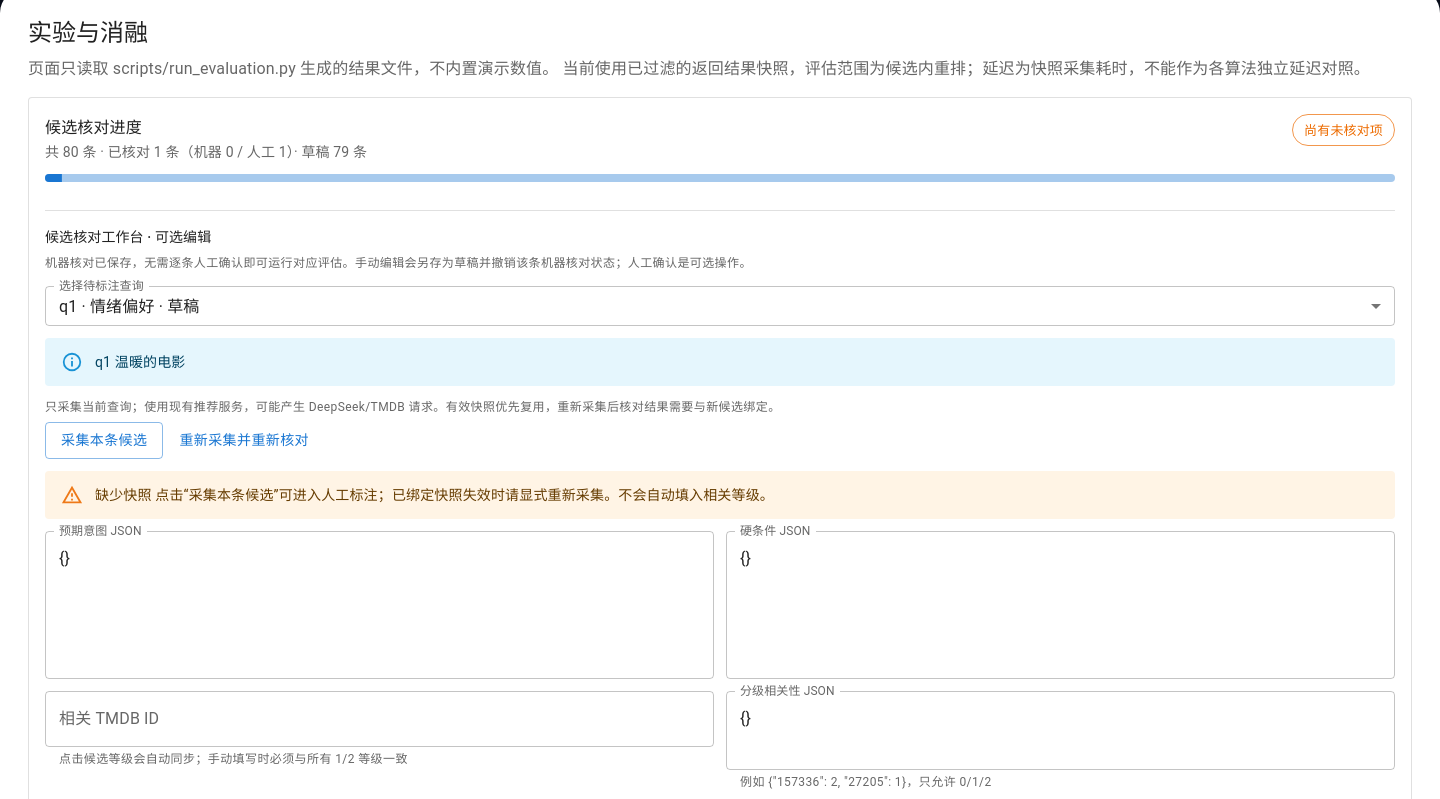
Test case: capture resolves to candidates, disables repeated clicks and never saves human labels
Click the button "采集本条候选".
click(104, 440)  # box [45,422,163,459]
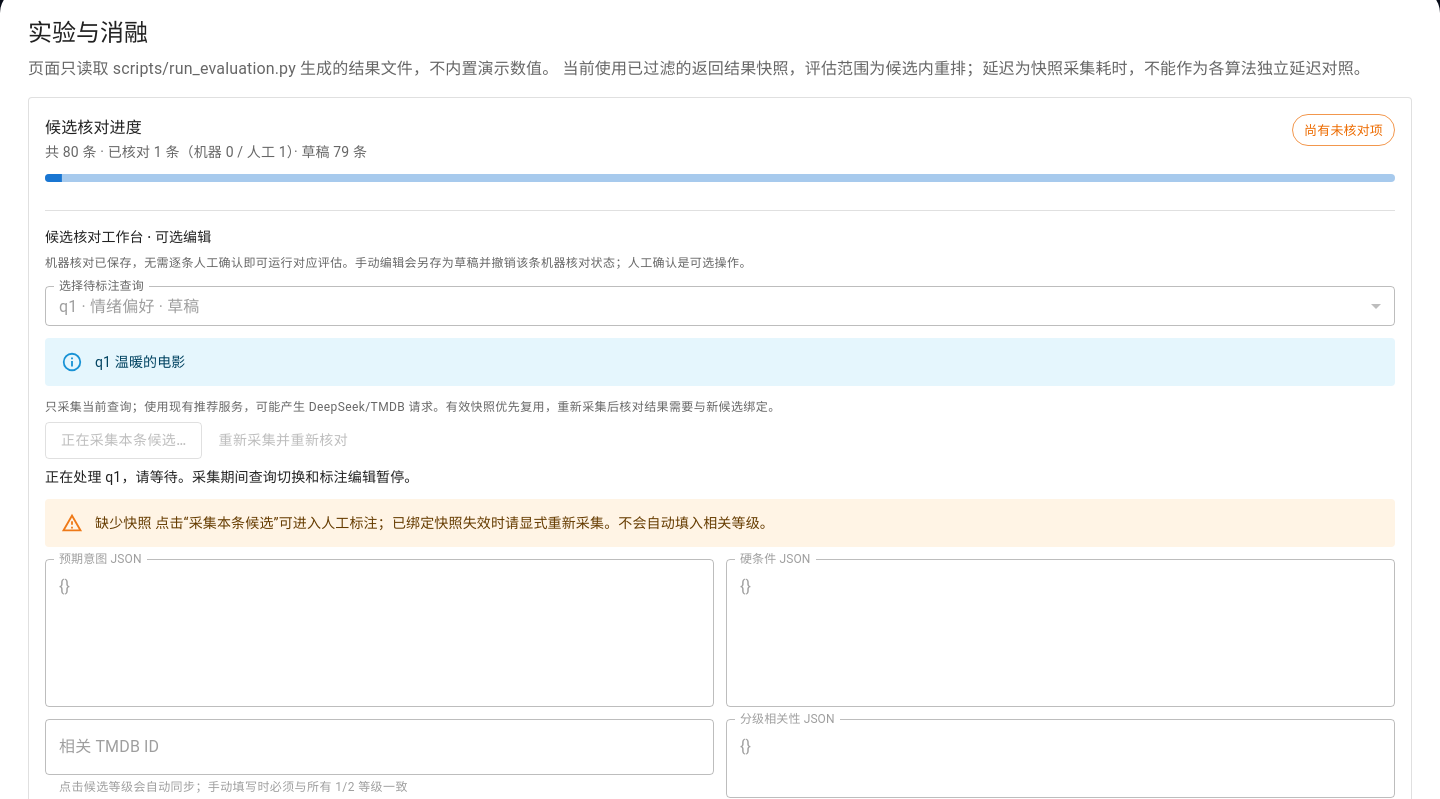
expect the button "正在采集本条候选…" is disabled: met
Click the button "正在采集本条候选…".
click(124, 440)  # box [45,422,202,459]
(page scrolled)
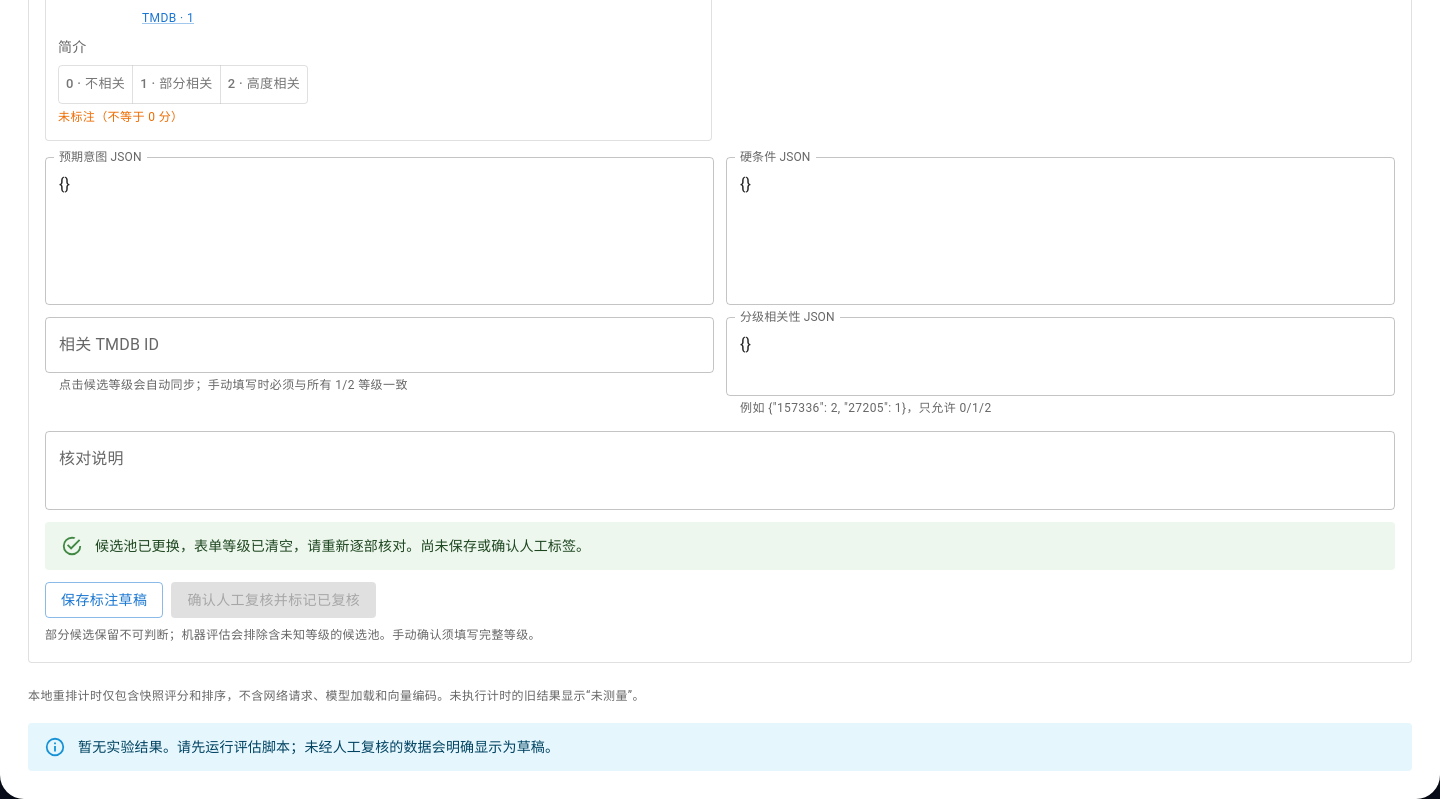
expect the button "确认人工复核并标记已复核" is disabled: met, box [171,582,376,618]
expect the text "未标注（不等于 0 分）" is shown: met, box [58,110,184,124]
